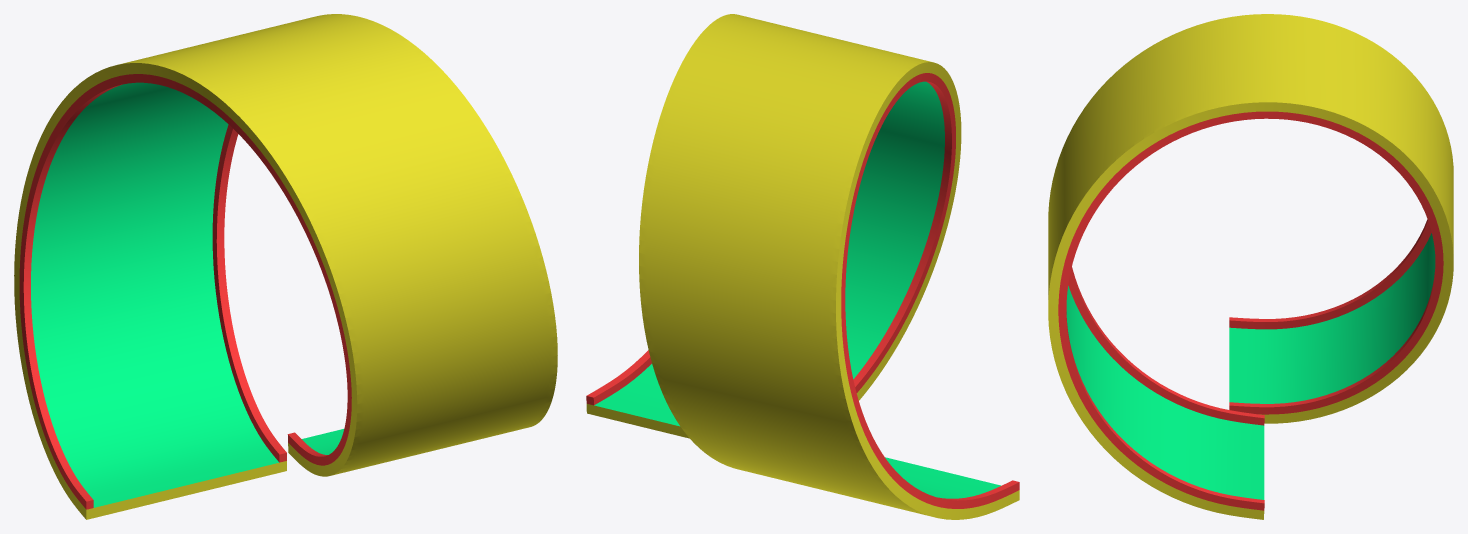
The model's file is RibbonLoop_Wall.fbx.
The picture shows the model from 3 angles, left to right: view 1: azimuth 30°, elevation 25°; view 2: azimuth 150°, elevation 25°; view 3: azimuth 270°, elevation 25°; orthographic projection. The views are drawn at different scales.
Parts seen in each view (by area): view 1: Loop Wall; view 2: Loop Wall; view 3: Loop Wall.
Part boxes in pixels (box(x1,y1,x2,y2)): Loop Wall: box(14, 14, 557, 519); Loop Wall: box(586, 14, 1019, 519); Loop Wall: box(1048, 14, 1453, 519).
Bounding box in the file's own units: 7511 × 6963 × 6941.
